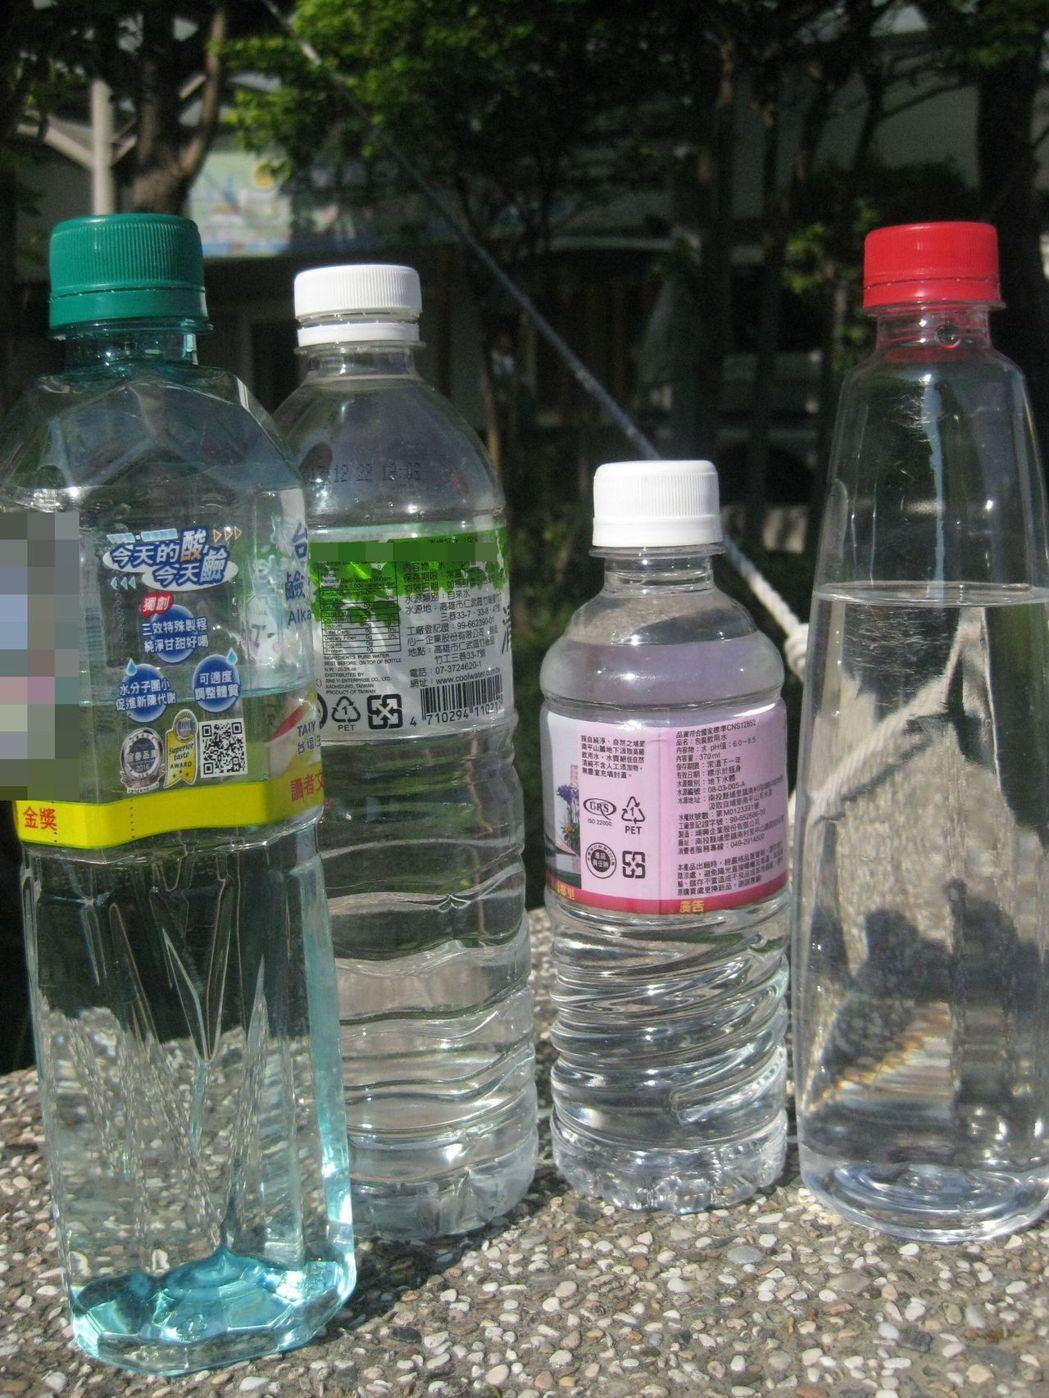plastic: (0, 214, 532, 1373), (792, 223, 1048, 1242), (278, 264, 536, 1238), (541, 460, 788, 1212)
